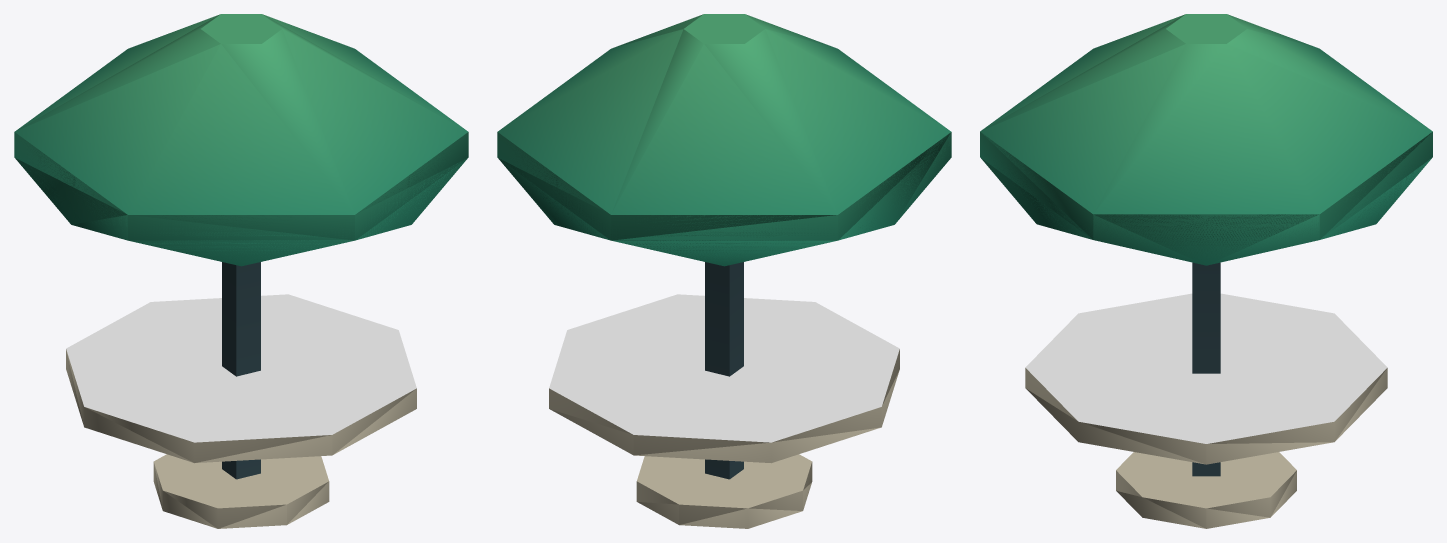
File: detail-parasol-b.glb
3 views of the same model, side by side, from view 1: azimuth 30°, elevation 25°; view 2: azimuth 150°, elevation 25°; view 3: azimuth 270°, elevation 25° (orthographic).
Visible parts, largest first — view 1: detail-parasol-b; view 2: detail-parasol-b; view 3: detail-parasol-b.
Part boxes in pixels (bbox=[...]): detail-parasol-b: bbox=[14, 14, 468, 528]; detail-parasol-b: bbox=[497, 14, 951, 528]; detail-parasol-b: bbox=[980, 14, 1432, 528].
Bounding box in the file's own units: 3.46 × 4.5 × 4.
